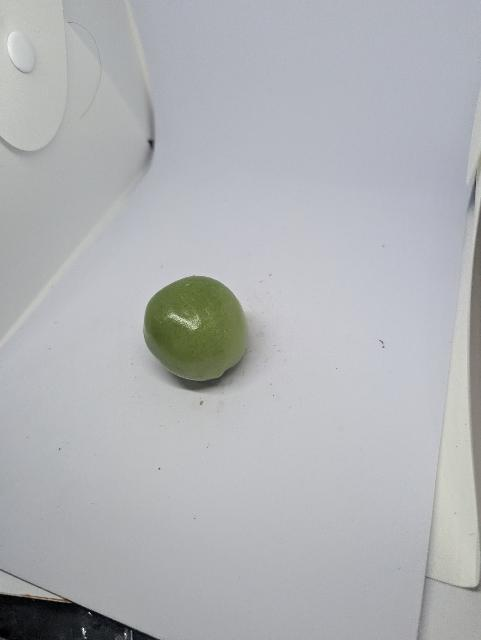green: (140, 272, 254, 384)
